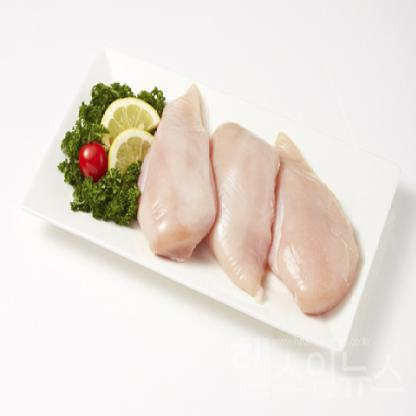chicken: (270, 121, 364, 328), (128, 73, 223, 274), (197, 104, 285, 305)
